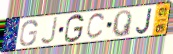C: (85, 12, 107, 41)
G: (63, 13, 85, 44), (18, 19, 39, 47)
J: (39, 16, 59, 46), (135, 7, 153, 35)
Q: (111, 9, 133, 38)
